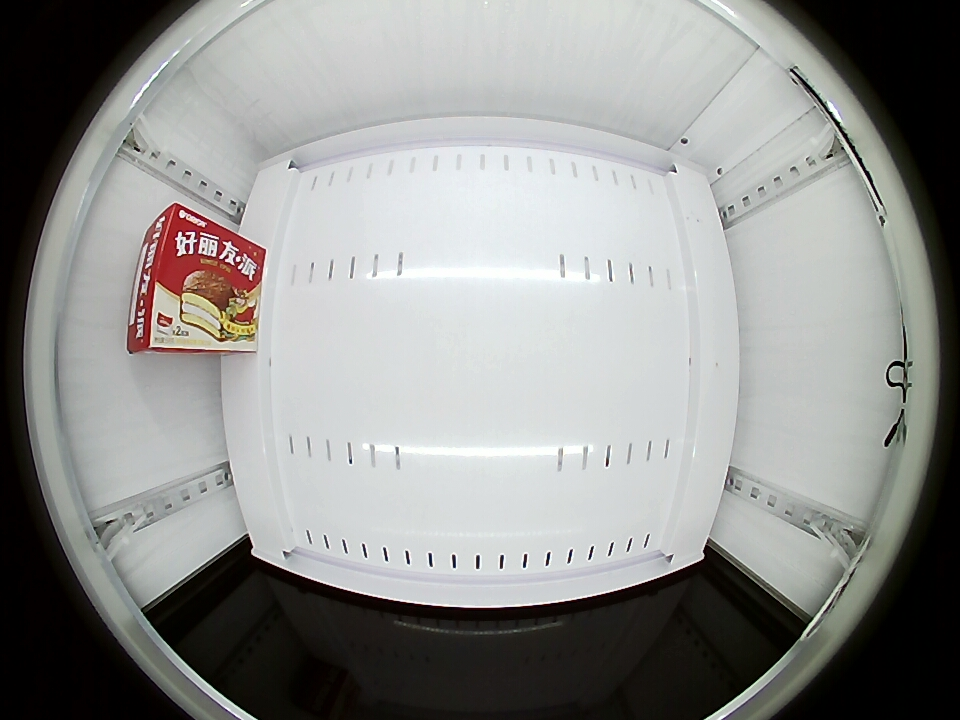haoliyou: (129, 205, 225, 353)
